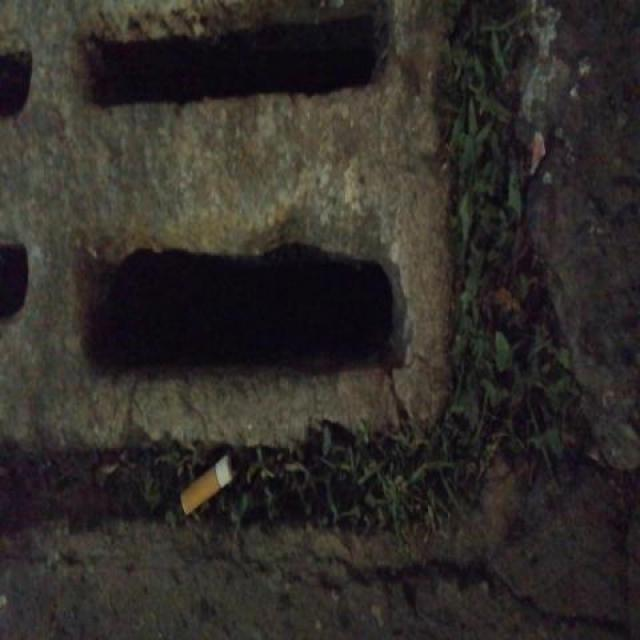non-organic waste: (175, 448, 238, 521)
